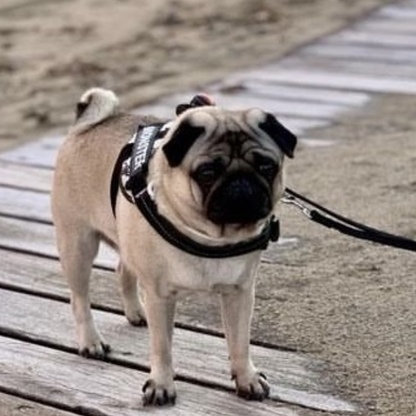Pug: (36, 77, 311, 411)
